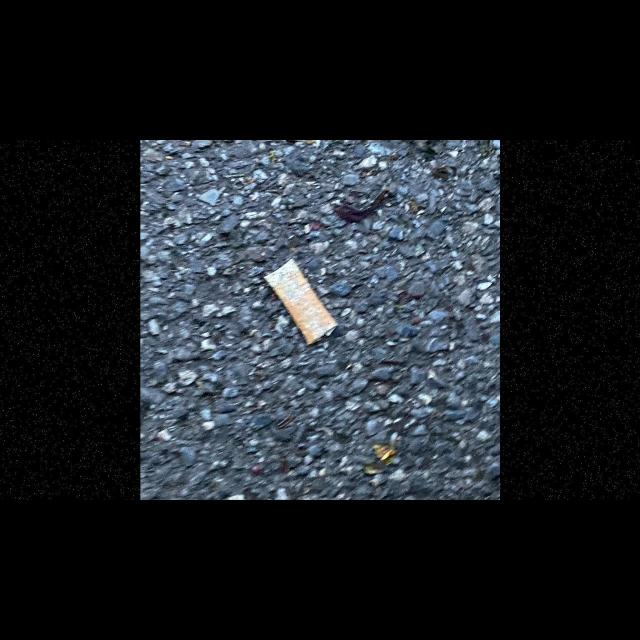cigarette: (262, 257, 340, 345)
